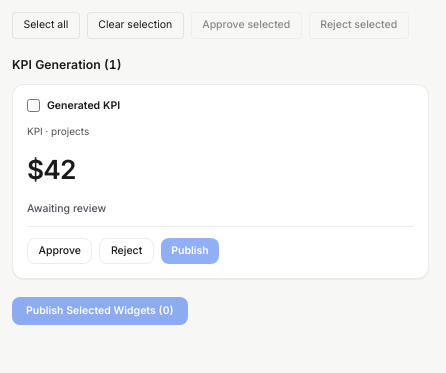
rejects an already saved preview without saving another revision and blocks publishing
What coordinates should you click on to do the following:
click the button with aria-label "Reject Generated KPI"
I would click on:
 (127, 251)
Its box is [99, 238, 154, 264].
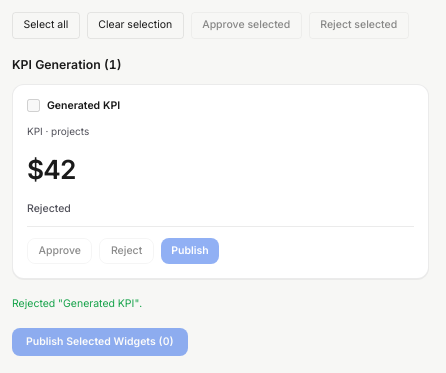
Check: the button with aria-label "Publish Generated KPI" is disabled, box [161, 238, 219, 264]
Check: the text "Rejected" is shown, box [27, 202, 71, 214]
Check: the checkbox is disabled, box [27, 99, 40, 112]
